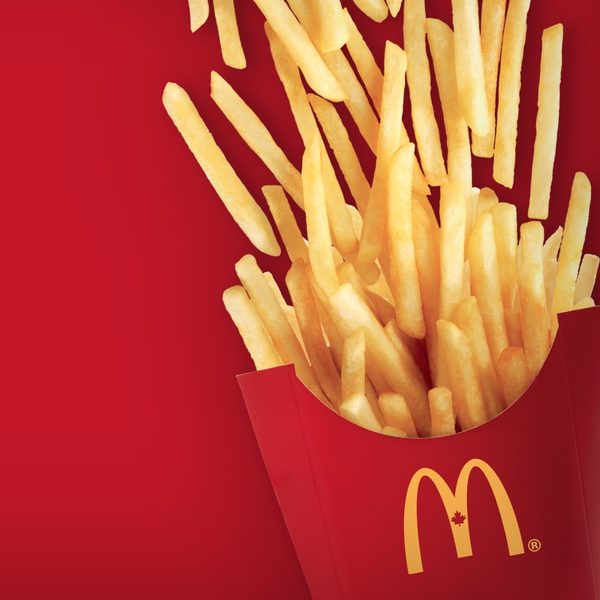mcdonalds: (389, 452, 531, 581)
